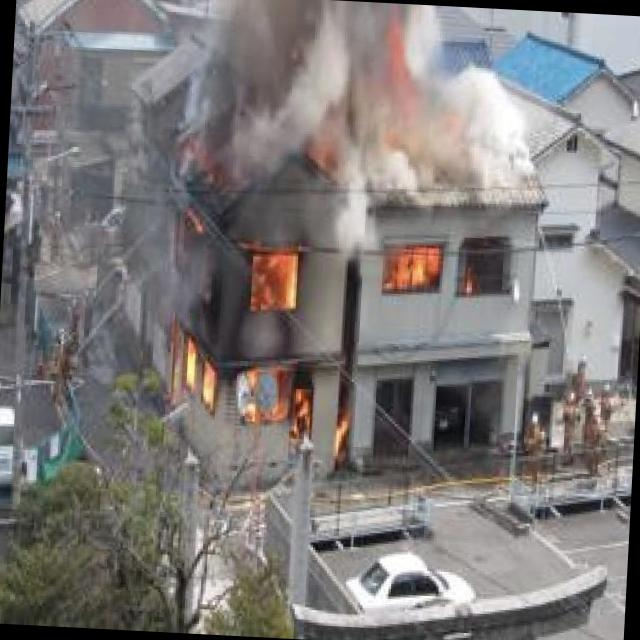Fire: (158, 227, 340, 475), (370, 66, 460, 165), (387, 234, 468, 302)
Smoke: (181, 0, 561, 222)
